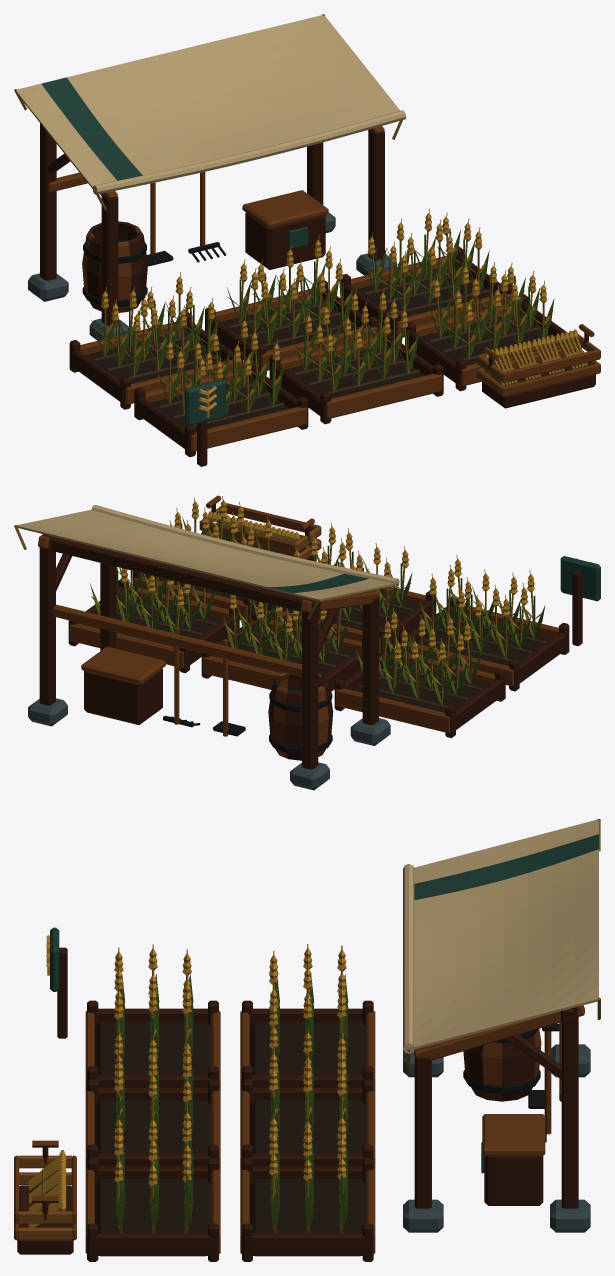
The model's file is farm.fbx.
The picture shows the model from 3 angles, top to bottom: view 1: azimuth 30°, elevation 25°; view 2: azimuth 150°, elevation 25°; view 3: azimuth 270°, elevation 25°; orthographic projection. The views are drawn at different scales.
Visible parts, largest first — view 1: Canopy, Tool_Frame, Bed_02_Soil, Bed_01_Soil, Bed_04_Soil, Bed_05_Soil, Harvest_Basket, Seed_Box, Bed_06_Soil, Bed_03_Soil, Water_Butt, Bed_03_Ripe (+13 smaller); view 2: Tool_Frame, Canopy, Bed_04_Soil, Bed_01_Soil, Seed_Box, Bed_06_Soil, Bed_05_Soil, Water_Butt, Bed_02_Soil, Bed_01_Ripe, Harvest_Basket, Bed_04_Ripe (+15 smaller); view 3: Canopy, Tool_Frame, Bed_06_Soil, Bed_03_Soil, Bed_05_Soil, Bed_01_Soil, Bed_02_Soil, Bed_04_Soil, Seed_Box, Harvest_Basket, Water_Butt, Bed_01_Ripe (+13 smaller).
Boxes of the visible parts, <box> form: Canopy: <box>14,14,406,210</box>; Tool_Frame: <box>28,123,396,340</box>; Bed_02_Soil: <box>269,328,443,424</box>; Bed_01_Soil: <box>134,360,308,457</box>; Bed_04_Soil: <box>69,312,243,409</box>; Bed_05_Soil: <box>205,280,378,371</box>; Harvest_Basket: <box>477,324,600,408</box>; Seed_Box: <box>242,190,328,269</box>; Bed_06_Soil: <box>341,246,512,338</box>; Bed_03_Soil: <box>405,294,578,391</box>; Water_Butt: <box>82,221,147,312</box>; Bed_03_Ripe: <box>427,261,553,359</box>; Tool_Frame: <box>28,534,390,790</box>; Canopy: <box>14,505,399,619</box>; Bed_04_Soil: <box>334,643,505,738</box>; Bed_01_Soil: <box>398,596,569,691</box>; Seed_Box: <box>81,646,165,724</box>; Bed_06_Soil: <box>68,579,239,673</box>; Bed_05_Soil: <box>201,611,362,691</box>; Water_Butt: <box>268,673,333,760</box>; Bed_02_Soil: <box>266,586,436,655</box>; Bed_01_Ripe: <box>421,555,544,660</box>; Harvest_Basket: <box>199,495,321,561</box>; Bed_04_Ripe: <box>356,608,479,706</box>; Canopy: <box>403,819,600,1069</box>; Tool_Frame: <box>403,1005,590,1232</box>; Bed_06_Soil: <box>240,1158,375,1261</box>; Bed_03_Soil: <box>85,1158,220,1261</box>; Bed_05_Soil: <box>240,1079,375,1168</box>; Bed_01_Soil: <box>85,1000,220,1090</box>; Bed_02_Soil: <box>85,1079,220,1168</box>; Bed_04_Soil: <box>240,1000,375,1090</box>; Seed_Box: <box>481,1114,545,1205</box>; Harvest_Basket: <box>14,1140,76,1254</box>; Water_Butt: <box>463,1029,541,1101</box>; Bed_01_Ripe: <box>114,944,191,1043</box>.
Bounding box in the file's own units: 429 × 203 × 447.
